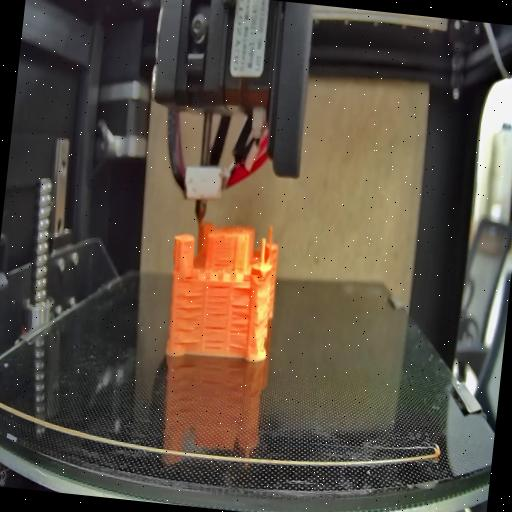cracks: (202, 284, 232, 351), (170, 290, 205, 346), (230, 302, 254, 352), (212, 256, 234, 270), (234, 282, 252, 292), (183, 274, 198, 284)
